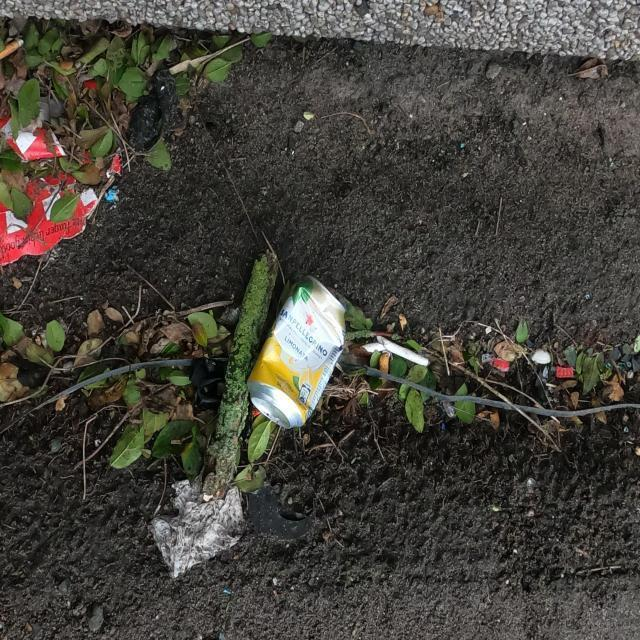Can-Metal: (250, 272, 348, 432)
Paper: (0, 110, 123, 268), (146, 475, 250, 583)
